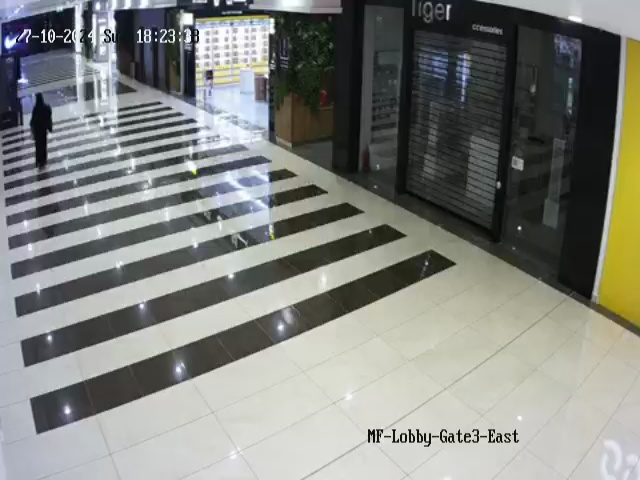female: (29, 92, 53, 168)
